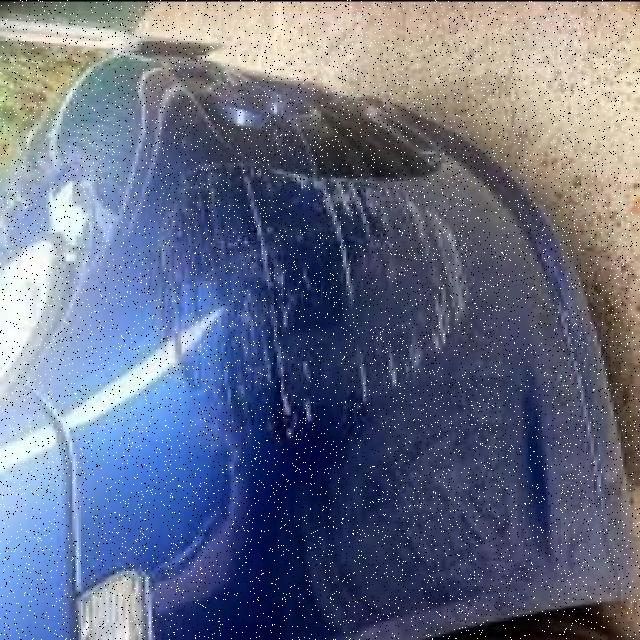damage: (155, 160, 472, 436)
